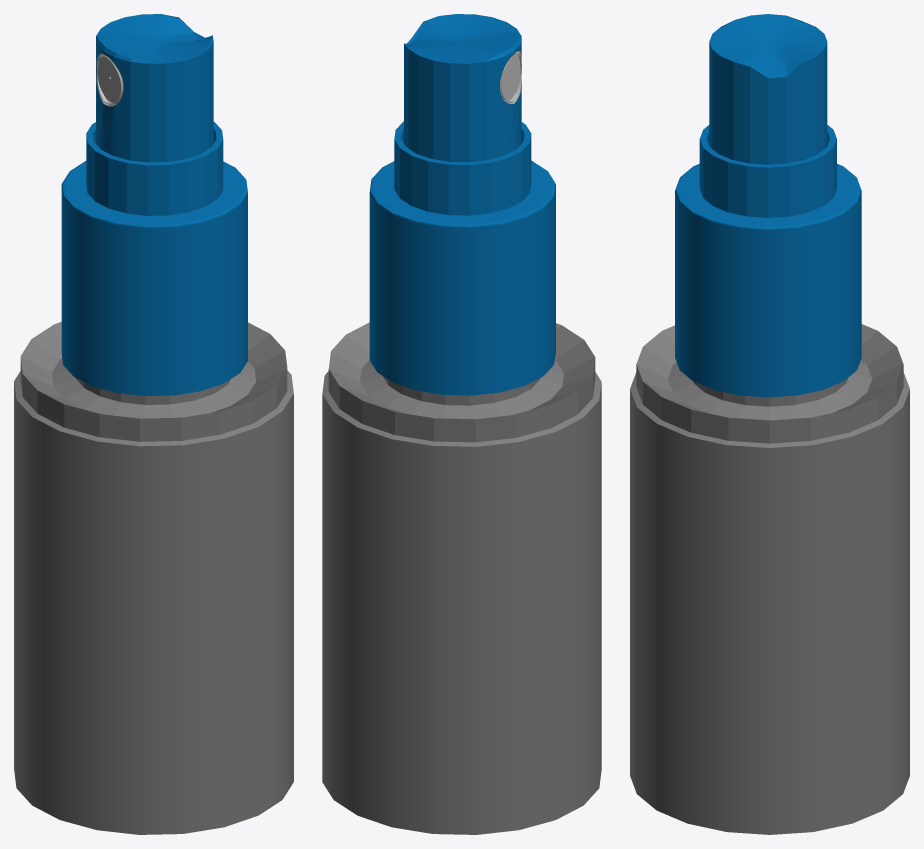
File: spray.fbx
3 views of the same model, side by side, from view 1: azimuth 30°, elevation 25°; view 2: azimuth 150°, elevation 25°; view 3: azimuth 270°, elevation 25° (orthographic).
Parts seen in each view (by area): view 1: pCylinder10, pCylinder9; view 2: pCylinder10, pCylinder9; view 3: pCylinder10, pCylinder9.
Boxes of the visible parts, x1,y1,x2,y2 form: pCylinder10: (14,322,293,834); pCylinder9: (61,14,247,396); pCylinder10: (322,322,601,834); pCylinder9: (369,14,555,395); pCylinder10: (630,324,909,834); pCylinder9: (675,14,861,397).
Size of the model in its own units: 3 by 8.73 by 3.
